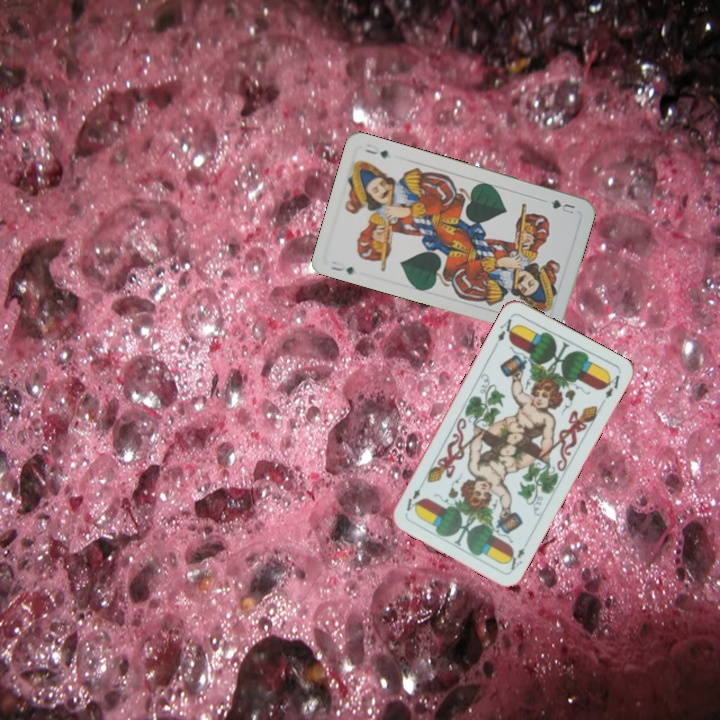EA: (494, 312, 519, 344), (503, 544, 528, 573)
GU: (546, 195, 577, 217), (326, 262, 356, 277)
